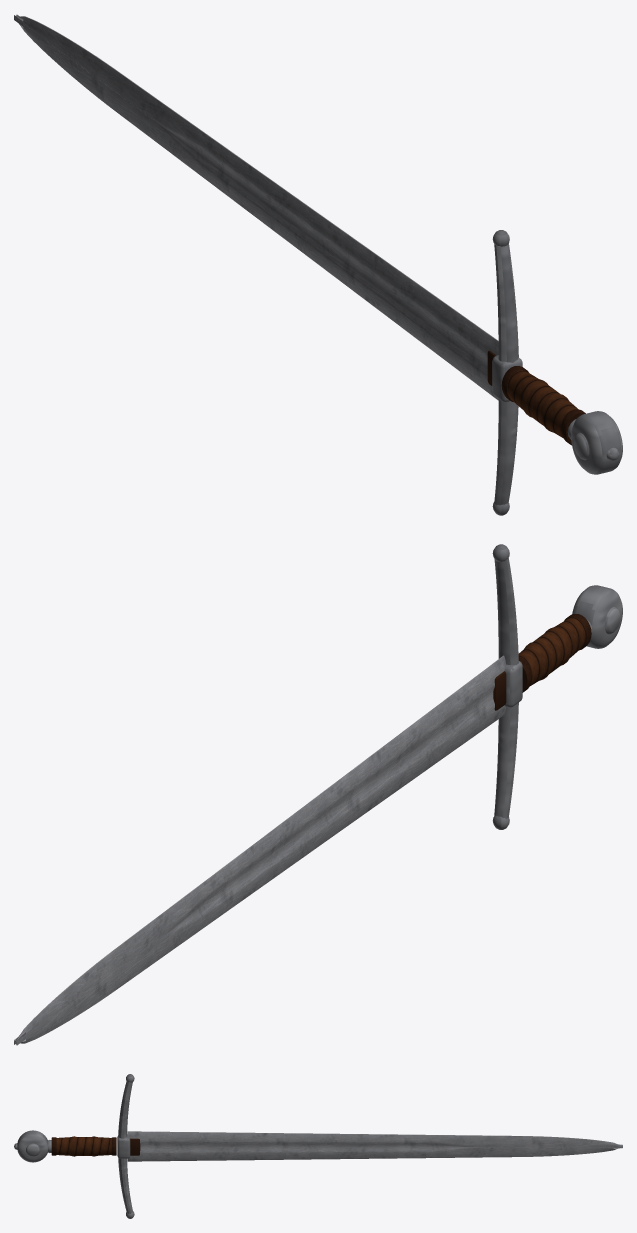
The model's file is sword.glb.
The picture shows the model from 3 angles, top to bottom: view 1: azimuth 30°, elevation 25°; view 2: azimuth 150°, elevation 25°; view 3: azimuth 270°, elevation 25°; orthographic projection. The views are drawn at different scales.
Visible parts, largest first — view 1: sword; view 2: sword; view 3: sword.
Part boxes in pixels (x1,y1,x2,y2): sword: (14, 14, 622, 515); sword: (14, 544, 622, 1045); sword: (14, 1074, 622, 1218).
Bounding box in the file's own units: 0.0336 × 0.249 × 0.9528.
Materials: 4 (4 with a texture image).
